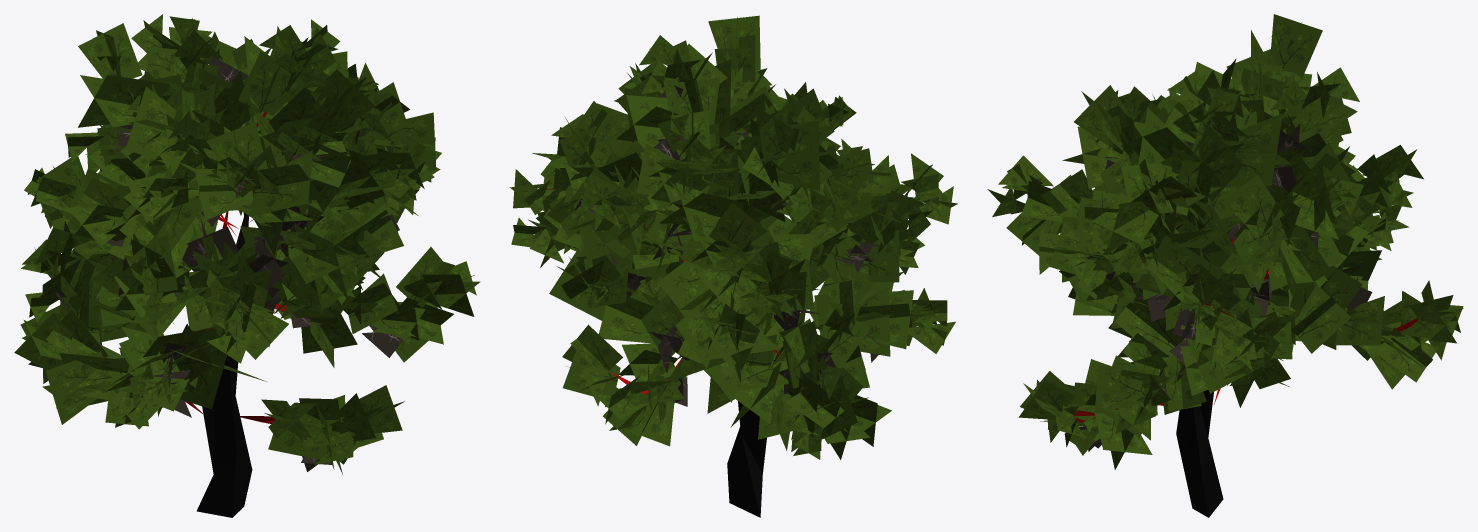
File: oak2 lod2.FBX
3 views of the same model, side by side, from view 1: azimuth 30°, elevation 25°; view 2: azimuth 150°, elevation 25°; view 3: azimuth 270°, elevation 25° (orthographic). The views are drawn at different scales.
Parts seen in each view (by area): view 1: oak2_LOD2; view 2: oak2_LOD2; view 3: oak2_LOD2.
Boxes of the visible parts, bbox=[...] form: oak2_LOD2: bbox=[14, 14, 480, 517]; oak2_LOD2: bbox=[510, 15, 957, 517]; oak2_LOD2: bbox=[987, 14, 1463, 517].
Size of the model in its own units: 105000 by 118777 by 112087.
